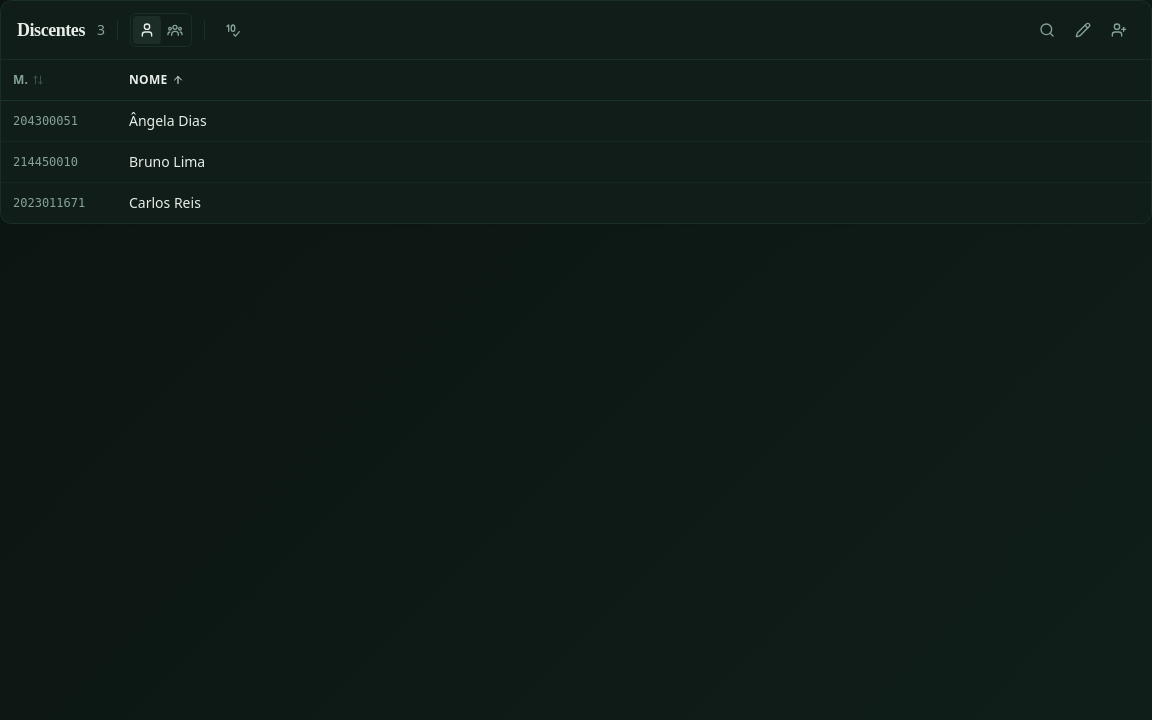
EnrollmentTable › filters as the search is typed and shows how many are left
Expected: the text "3" is shown, [97, 20, 105, 40]
Click the button named "Buscar discente". click: {"x": 1047, "y": 30}
box: [1031, 14, 1063, 46]
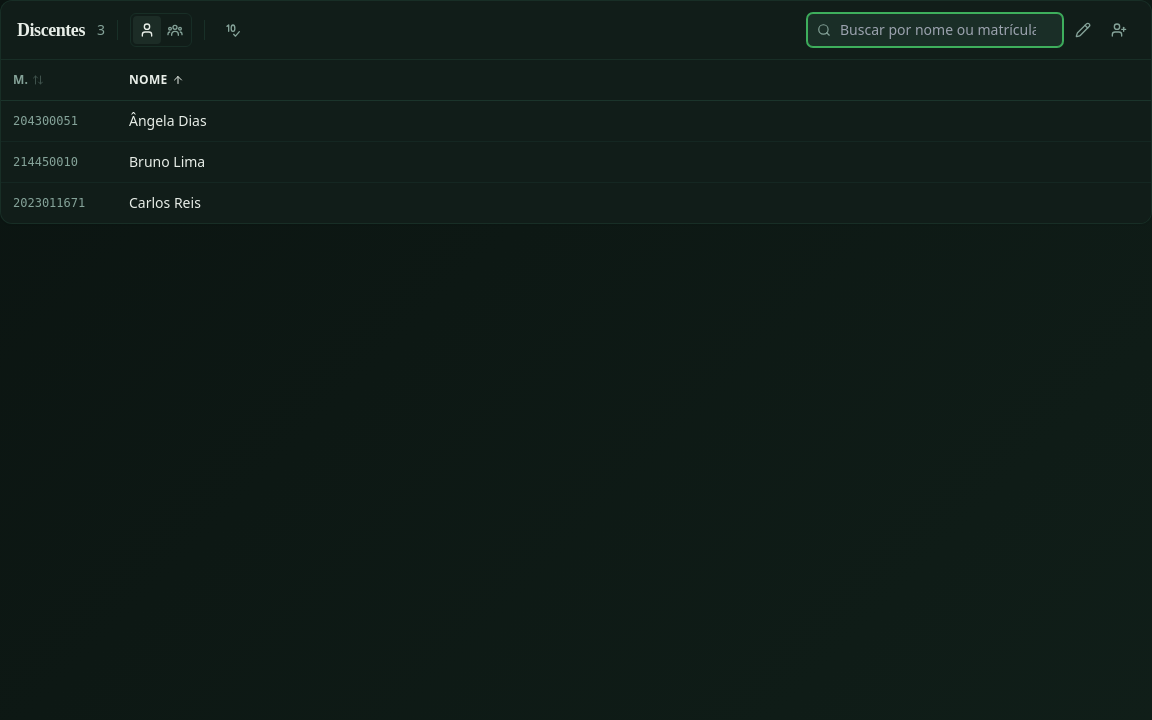
Type "angela" into the search field. click: {"x": 935, "y": 30}
box: [807, 13, 1063, 47]
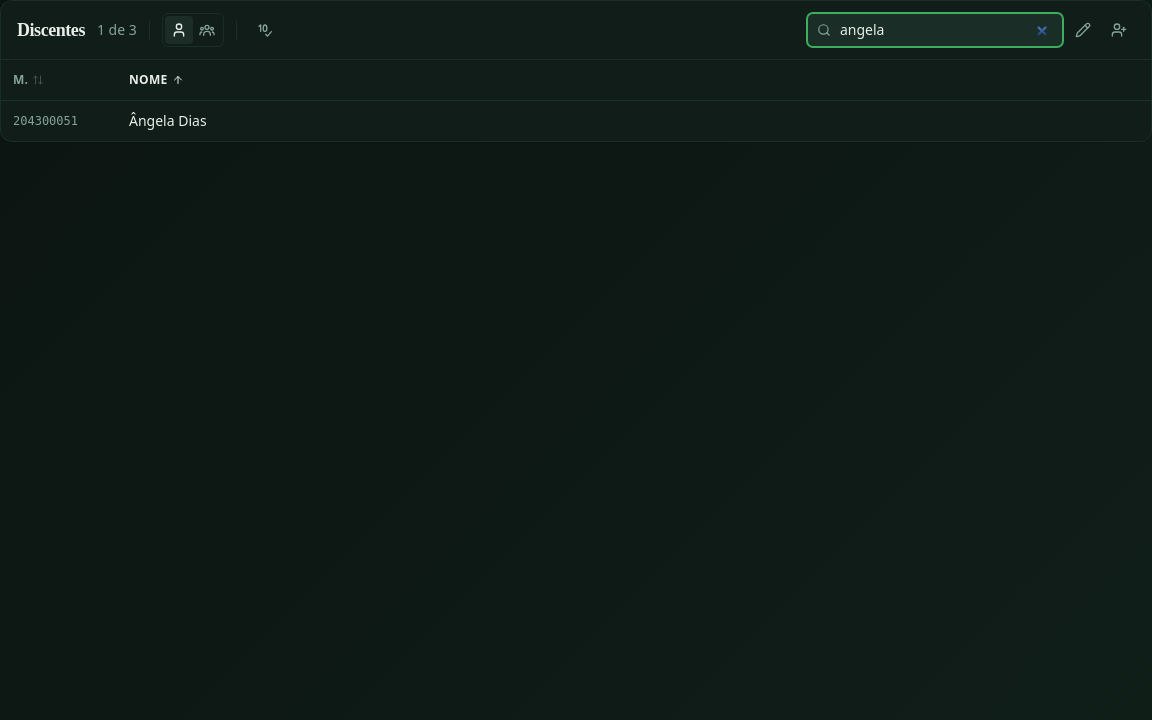
Now the text "1 de 3" is shown, box [97, 20, 137, 40]
